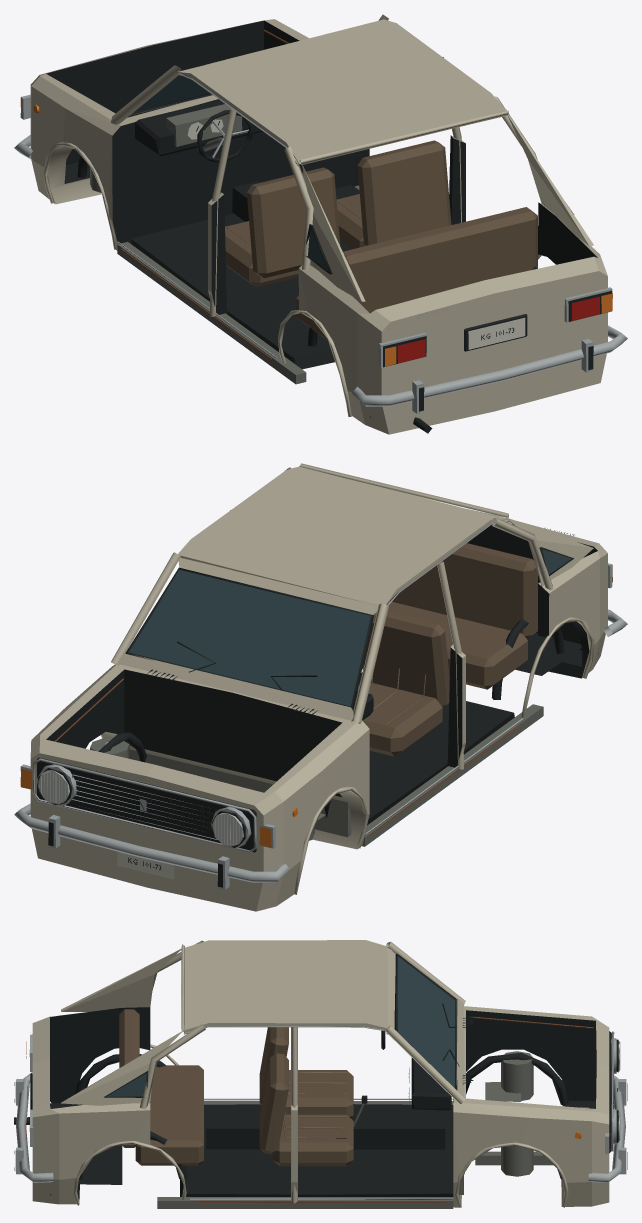
File: zastava_101_shell.glb
3 renders of one model, top to bottom at view 1: azimuth 30°, elevation 25°; view 2: azimuth 150°, elevation 25°; view 3: azimuth 270°, elevation 25°, orthographic. The views are drawn at different scales.
Visible parts, largest first — view 1: zastava_101_shell; view 2: zastava_101_shell; view 3: zastava_101_shell.
Part boxes in pixels (left/top/right/bottom): zastava_101_shell: left=14, top=14, right=627, bottom=434; zastava_101_shell: left=14, top=463, right=627, bottom=911; zastava_101_shell: left=14, top=940, right=627, bottom=1208.
Bounding box in the file's own units: 1.63 × 1.27 × 3.94.
